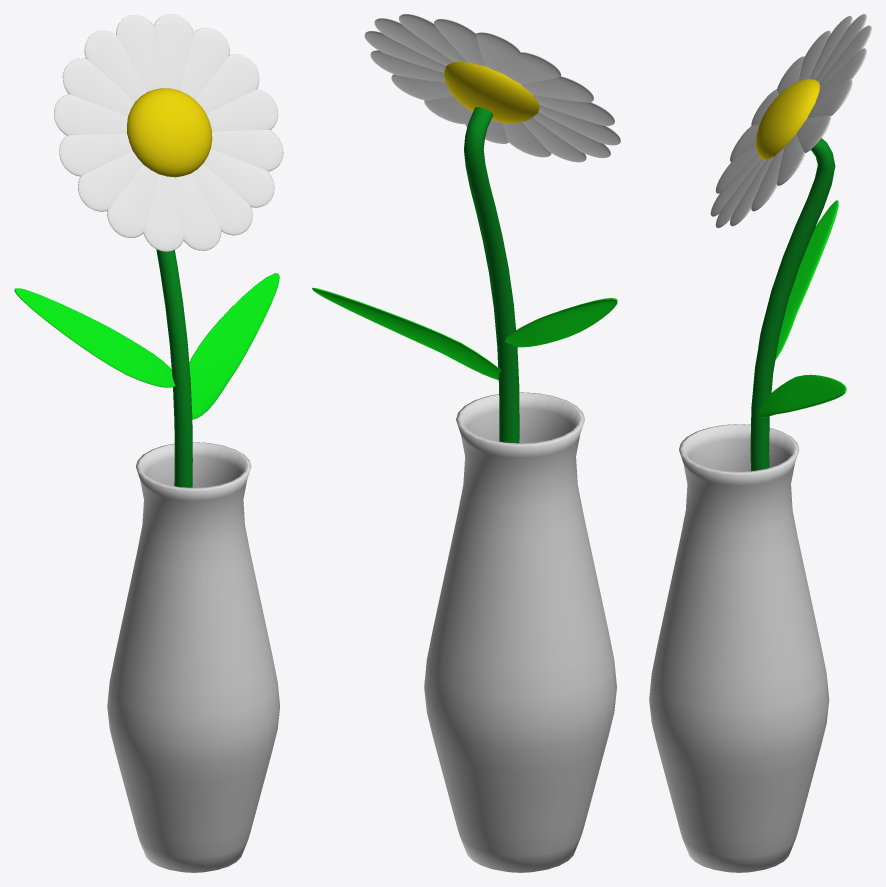
Rendered from Flower + vent.fbx.
3 views of the same model, side by side, from view 1: azimuth 30°, elevation 25°; view 2: azimuth 150°, elevation 25°; view 3: azimuth 270°, elevation 25° (orthographic). The views are drawn at different scales.
Parts seen in each view (by area): view 1: vent, flower; view 2: vent, flower; view 3: vent, flower.
Part boxes in pixels (<box>): vent: <box>107,442,279,872</box>; flower: <box>14,14,283,487</box>; vent: <box>424,392,616,872</box>; flower: <box>312,14,620,443</box>; vent: <box>649,424,829,872</box>; flower: <box>710,14,871,471</box>.
Size of the model in its own units: 66.96 by 190 by 46.15.
